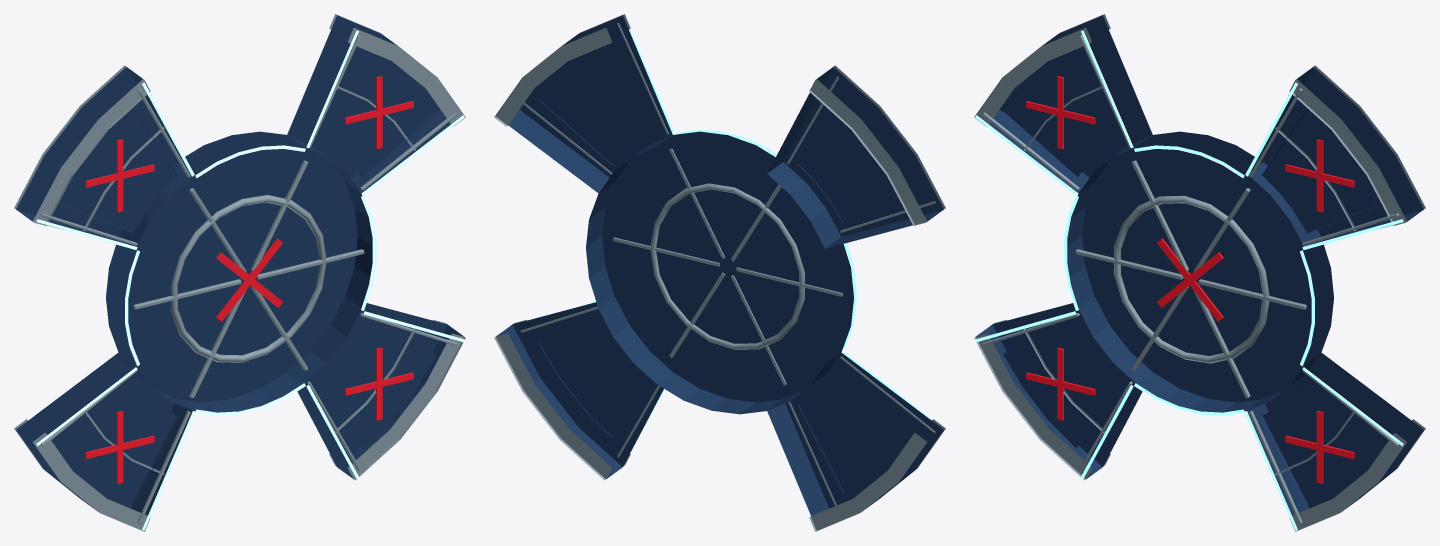
File: foundry-panel-fun6-low.glb
The picture shows the model from 3 angles, left to right: view 1: azimuth 30°, elevation 25°; view 2: azimuth 150°, elevation 25°; view 3: azimuth 330°, elevation 25°; orthographic projection.
Parts seen in each view (by area): view 1: RENDER_PANEL_SHELL, RENDER_PANEL_FRAME, RENDER_PANEL_HAZARD, RENDER_PANEL_SIGNAL; view 2: RENDER_PANEL_SHELL, RENDER_PANEL_FRAME, RENDER_PANEL_SIGNAL; view 3: RENDER_PANEL_SHELL, RENDER_PANEL_FRAME, RENDER_PANEL_HAZARD, RENDER_PANEL_SIGNAL.
Boxes of the visible parts, bbox=[...] form: RENDER_PANEL_SHELL: bbox=[16, 15, 463, 515]; RENDER_PANEL_FRAME: bbox=[14, 14, 465, 531]; RENDER_PANEL_HAZARD: bbox=[85, 76, 413, 483]; RENDER_PANEL_SIGNAL: bbox=[36, 30, 464, 530]; RENDER_PANEL_SHELL: bbox=[496, 15, 943, 515]; RENDER_PANEL_FRAME: bbox=[494, 14, 945, 531]; RENDER_PANEL_SIGNAL: bbox=[558, 29, 932, 445]; RENDER_PANEL_SHELL: bbox=[976, 15, 1423, 515]; RENDER_PANEL_FRAME: bbox=[974, 14, 1425, 531]; RENDER_PANEL_HAZARD: bbox=[1026, 76, 1354, 483]; RENDER_PANEL_SIGNAL: bbox=[975, 30, 1403, 530].
Size of what is drawn, in the model's own units: 36.84 by 36.84 by 3.09.
